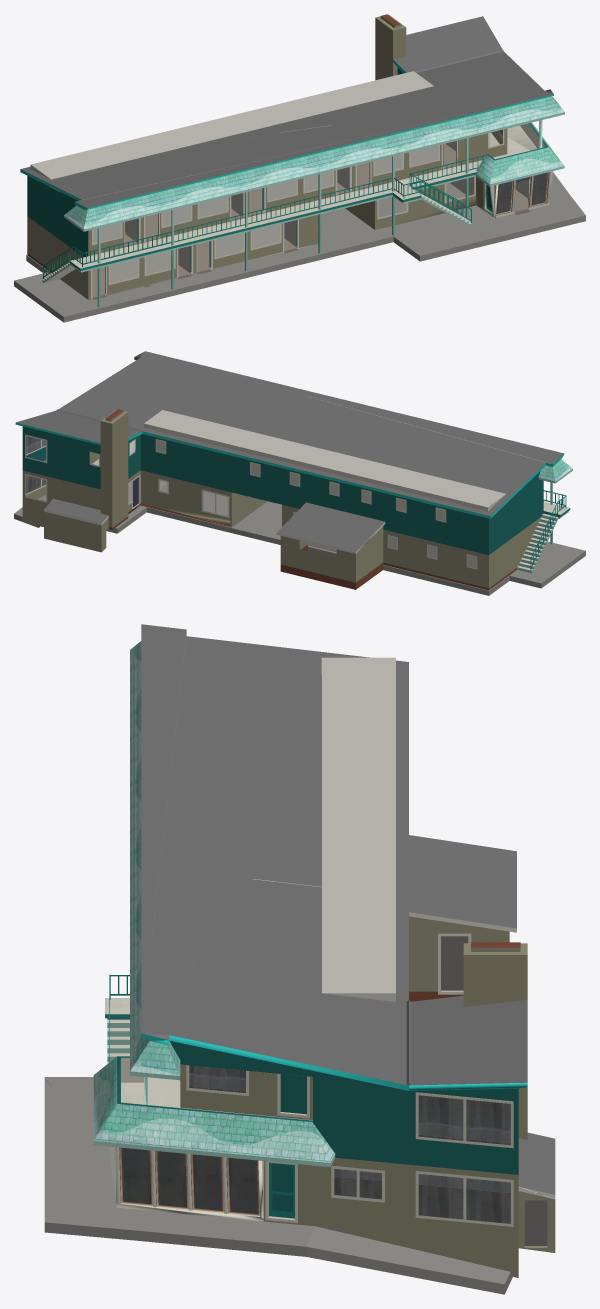
File: roadside-motel.zfix-v21.lod0.glb
3 views of the same model, one above another, from view 1: azimuth 30°, elevation 25°; view 2: azimuth 150°, elevation 25°; view 3: azimuth 270°, elevation 25° (orthographic). The views are drawn at different scales.
Parts seen in each view (by area): view 1: Object_6, Object_5, Object_11, Object_10, Object_4, Object_8; view 2: Object_6, Object_4, Object_5, Object_11, Object_8, Object_10; view 3: Object_6, Object_8, Object_11, Object_5, Object_10, Object_4.
Boxes of the visible parts, x1=… form: Object_6: x1=14, y1=14, x2=585, y2=322; Object_5: x1=42, y1=123, x2=553, y2=298; Object_11: x1=42, y1=105, x2=564, y2=282; Object_10: x1=64, y1=96, x2=560, y2=307; Object_4: x1=20, y1=14, x2=553, y2=279; Object_8: x1=496, y1=129, x2=549, y2=215; Object_6: x1=14, y1=351, x2=585, y2=595; Object_4: x1=15, y1=409, x2=570, y2=590; Object_5: x1=25, y1=397, x2=569, y2=570; Object_11: x1=517, y1=466, x2=572, y2=573; Object_8: x1=26, y1=357, x2=138, y2=493; Object_10: x1=539, y1=459, x2=569, y2=544; Object_6: x1=44, y1=624, x2=555, y2=1294; Object_8: x1=119, y1=1065, x2=510, y2=1223; Object_11: x1=93, y1=646, x2=335, y2=1167; Object_5: x1=105, y1=715, x2=555, y2=1226; Object_10: x1=99, y1=641, x2=334, y2=1152; Object_4: x1=105, y1=942, x2=527, y2=1218.
Bounding box in the file's own units: 37.03 × 9.34 × 17.02.
Materials: 6 (5 with a texture image).
